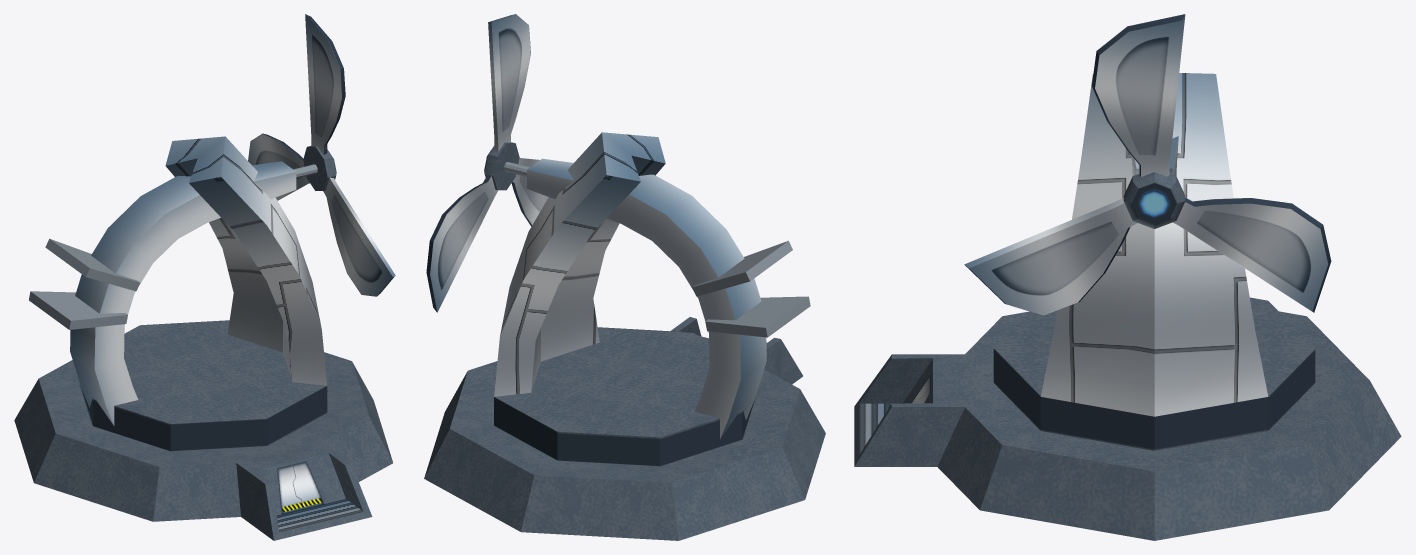
The model's file is Wind Plant.fbx.
3 views of the same model, side by side, from view 1: azimuth 30°, elevation 25°; view 2: azimuth 150°, elevation 25°; view 3: azimuth 270°, elevation 25° (orthographic). The views are drawn at different scales.
Visible parts, largest first — view 1: Base, Fan_Holder, Fan_Support, Gate, Blade, Blade2, Extra_2, Extra_1, Blade1, Fan_Centre; view 2: Base, Fan_Holder, Fan_Support, Blade1, Blade, Extra_2, Extra_1, Gate, Fan_Centre, Blade2; view 3: Base, Fan_Holder, Blade, Blade2, Blade1, Gate, Fan_Centre.
Part boxes in pixels (x1,y1,x2,y2): Base: [14, 320, 392, 521]; Fan_Holder: [165, 136, 327, 385]; Fan_Support: [70, 161, 296, 425]; Gate: [236, 442, 372, 540]; Blade: [305, 14, 345, 154]; Blade2: [323, 177, 395, 296]; Extra_2: [29, 291, 127, 329]; Extra_1: [45, 238, 140, 291]; Blade1: [248, 133, 309, 200]; Fan_Centre: [303, 146, 336, 190]; Base: [424, 327, 825, 540]; Fan_Holder: [494, 132, 665, 396]; Fan_Support: [526, 158, 766, 438]; Blade1: [426, 175, 498, 312]; Blade: [488, 14, 530, 151]; Extra_2: [705, 296, 810, 337]; Extra_1: [692, 240, 792, 296]; Gate: [670, 317, 802, 384]; Fan_Centre: [484, 142, 519, 190]; Blade2: [511, 158, 548, 226]; Base: [937, 297, 1401, 540]; Fan_Holder: [1041, 73, 1268, 416]; Blade: [1092, 14, 1185, 176]; Blade2: [964, 197, 1137, 315]; Blade1: [1173, 197, 1331, 312]; Gate: [854, 354, 964, 466]; Fan_Centre: [1123, 172, 1185, 228].
Size of the model in its own units: 8 by 8.8 by 8.86.
